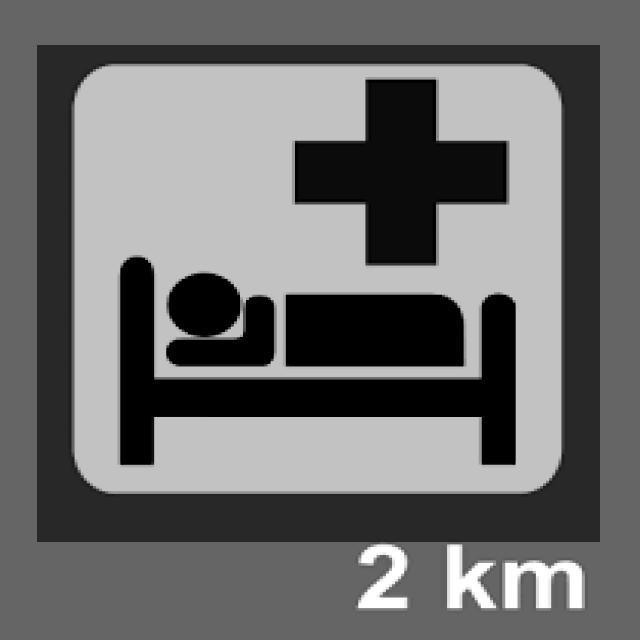hospital ahead: (66, 58, 566, 505)
